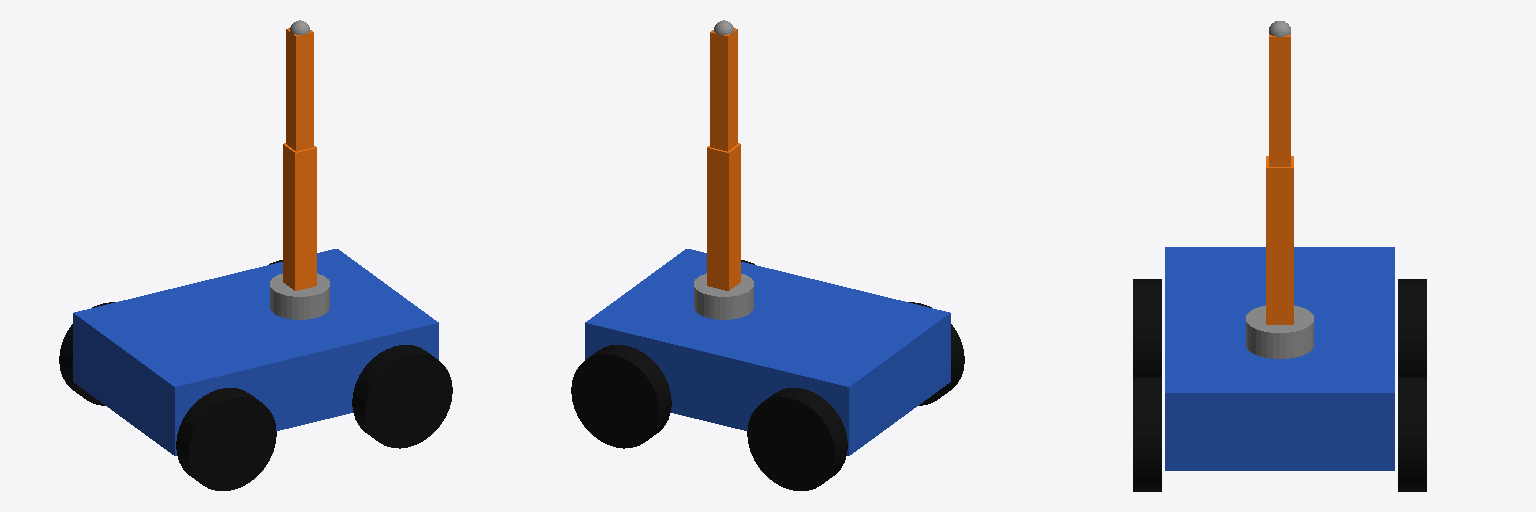
URDF robot description (sample_robot):
<?xml version="1.0"?>
<!-- Generated from sample_robot.urdf.xacro (expanded manually; values identical) -->
<robot name="sample_robot">
  <material name="blue"><color rgba="0.2 0.4 0.8 1"/></material>
  <material name="black"><color rgba="0.1 0.1 0.1 1"/></material>
  <material name="orange"><color rgba="1.0 0.5 0.1 1"/></material>
  <material name="grey"><color rgba="0.6 0.6 0.6 1"/></material>

  <link name="base_link">
    <visual>
      <origin xyz="0 0 0" rpy="0 0 0"/>
      <geometry><box size="0.6 0.4 0.15"/></geometry>
      <material name="blue"/>
    </visual>
    <collision>
      <origin xyz="0 0 0" rpy="0 0 0"/>
      <geometry><box size="0.6 0.4 0.15"/></geometry>
    </collision>
    <inertial>
      <origin xyz="0 0 0" rpy="0 0 0"/>
      <mass value="10"/>
      <inertia ixx="0.152083" ixy="0" ixz="0" iyy="0.31875" iyz="0" izz="0.433333"/>
    </inertial>
  </link>
  <link name="front_left_wheel_link">
    <visual>
      <origin xyz="0 0 0" rpy="1.5708 0 0"/>
      <geometry><cylinder radius="0.1" length="0.05"/></geometry>
      <material name="black"/>
    </visual>
    <collision>
      <origin xyz="0 0 0" rpy="1.5708 0 0"/>
      <geometry><cylinder radius="0.1" length="0.05"/></geometry>
    </collision>
    <inertial>
      <origin xyz="0 0 0" rpy="0 0 0"/>
      <mass value="1"/>
      <inertia ixx="0.00270833" ixy="0" ixz="0" iyy="0.005" iyz="0" izz="0.00270833"/>
    </inertial>
  </link>
  <joint name="front_left_wheel_joint" type="continuous">
    <parent link="base_link"/>
    <child link="front_left_wheel_link"/>
    <origin xyz="0.2 0.23 -0.05" rpy="0 0 0"/>
    <axis xyz="0 1 0"/>
    <limit effort="5" velocity="10"/>
    <dynamics damping="0.1" friction="0.0"/>
  </joint>
  <link name="front_right_wheel_link">
    <visual>
      <origin xyz="0 0 0" rpy="1.5708 0 0"/>
      <geometry><cylinder radius="0.1" length="0.05"/></geometry>
      <material name="black"/>
    </visual>
    <collision>
      <origin xyz="0 0 0" rpy="1.5708 0 0"/>
      <geometry><cylinder radius="0.1" length="0.05"/></geometry>
    </collision>
    <inertial>
      <origin xyz="0 0 0" rpy="0 0 0"/>
      <mass value="1"/>
      <inertia ixx="0.00270833" ixy="0" ixz="0" iyy="0.005" iyz="0" izz="0.00270833"/>
    </inertial>
  </link>
  <joint name="front_right_wheel_joint" type="continuous">
    <parent link="base_link"/>
    <child link="front_right_wheel_link"/>
    <origin xyz="0.2 -0.23 -0.05" rpy="0 0 0"/>
    <axis xyz="0 1 0"/>
    <limit effort="5" velocity="10"/>
    <dynamics damping="0.1" friction="0.0"/>
  </joint>
  <link name="rear_left_wheel_link">
    <visual>
      <origin xyz="0 0 0" rpy="1.5708 0 0"/>
      <geometry><cylinder radius="0.1" length="0.05"/></geometry>
      <material name="black"/>
    </visual>
    <collision>
      <origin xyz="0 0 0" rpy="1.5708 0 0"/>
      <geometry><cylinder radius="0.1" length="0.05"/></geometry>
    </collision>
    <inertial>
      <origin xyz="0 0 0" rpy="0 0 0"/>
      <mass value="1"/>
      <inertia ixx="0.00270833" ixy="0" ixz="0" iyy="0.005" iyz="0" izz="0.00270833"/>
    </inertial>
  </link>
  <joint name="rear_left_wheel_joint" type="continuous">
    <parent link="base_link"/>
    <child link="rear_left_wheel_link"/>
    <origin xyz="-0.2 0.23 -0.05" rpy="0 0 0"/>
    <axis xyz="0 1 0"/>
    <limit effort="5" velocity="10"/>
    <dynamics damping="0.1" friction="0.0"/>
  </joint>
  <link name="rear_right_wheel_link">
    <visual>
      <origin xyz="0 0 0" rpy="1.5708 0 0"/>
      <geometry><cylinder radius="0.1" length="0.05"/></geometry>
      <material name="black"/>
    </visual>
    <collision>
      <origin xyz="0 0 0" rpy="1.5708 0 0"/>
      <geometry><cylinder radius="0.1" length="0.05"/></geometry>
    </collision>
    <inertial>
      <origin xyz="0 0 0" rpy="0 0 0"/>
      <mass value="1"/>
      <inertia ixx="0.00270833" ixy="0" ixz="0" iyy="0.005" iyz="0" izz="0.00270833"/>
    </inertial>
  </link>
  <joint name="rear_right_wheel_joint" type="continuous">
    <parent link="base_link"/>
    <child link="rear_right_wheel_link"/>
    <origin xyz="-0.2 -0.23 -0.05" rpy="0 0 0"/>
    <axis xyz="0 1 0"/>
    <limit effort="5" velocity="10"/>
    <dynamics damping="0.1" friction="0.0"/>
  </joint>
  <link name="arm_pedestal_link">
    <visual>
      <origin xyz="0 0 0" rpy="0 0 0"/>
      <geometry><cylinder radius="0.06" length="0.05"/></geometry>
      <material name="grey"/>
    </visual>
    <collision>
      <origin xyz="0 0 0" rpy="0 0 0"/>
      <geometry><cylinder radius="0.06" length="0.05"/></geometry>
    </collision>
    <inertial>
      <origin xyz="0 0 0" rpy="0 0 0"/>
      <mass value="0.5"/>
      <inertia ixx="0.000554167" ixy="0" ixz="0" iyy="0.000554167" iyz="0" izz="0.0009"/>
    </inertial>
  </link>
  <joint name="base_to_arm_pedestal_joint" type="fixed">
    <parent link="base_link"/>
    <child link="arm_pedestal_link"/>
    <origin xyz="0.1 0 0.1" rpy="0 0 0"/>
  </joint>
  <link name="upper_arm_link">
    <visual>
      <origin xyz="0 0 0.15" rpy="0 0 0"/>
      <geometry><box size="0.05 0.05 0.3"/></geometry>
      <material name="orange"/>
    </visual>
    <collision>
      <origin xyz="0 0 0.15" rpy="0 0 0"/>
      <geometry><box size="0.05 0.05 0.3"/></geometry>
    </collision>
    <inertial>
      <origin xyz="0 0 0.15" rpy="0 0 0"/>
      <mass value="1"/>
      <inertia ixx="0.00770833" ixy="0" ixz="0" iyy="0.00770833" iyz="0" izz="0.000416667"/>
    </inertial>
  </link>
  <joint name="shoulder_joint" type="revolute">
    <parent link="arm_pedestal_link"/>
    <child link="upper_arm_link"/>
    <origin xyz="0 0 0.025" rpy="0 0 0"/>
    <axis xyz="0 1 0"/>
    <limit lower="-1.5708" upper="1.5708" effort="20" velocity="1.5"/>
    <dynamics damping="0.1" friction="0.0"/>
  </joint>
  <link name="forearm_link">
    <visual>
      <origin xyz="0 0 0.125" rpy="0 0 0"/>
      <geometry><box size="0.04 0.04 0.25"/></geometry>
      <material name="orange"/>
    </visual>
    <collision>
      <origin xyz="0 0 0.125" rpy="0 0 0"/>
      <geometry><box size="0.04 0.04 0.25"/></geometry>
    </collision>
    <inertial>
      <origin xyz="0 0 0.125" rpy="0 0 0"/>
      <mass value="0.6"/>
      <inertia ixx="0.003205" ixy="0" ixz="0" iyy="0.003205" iyz="0" izz="0.00016"/>
    </inertial>
  </link>
  <joint name="elbow_joint" type="revolute">
    <parent link="upper_arm_link"/>
    <child link="forearm_link"/>
    <origin xyz="0 0 0.3" rpy="0 0 0"/>
    <axis xyz="0 1 0"/>
    <limit lower="-2.5" upper="2.5" effort="10" velocity="2"/>
    <dynamics damping="0.1" friction="0.0"/>
  </joint>
  <link name="tool_link">
    <visual>
      <origin xyz="0 0 0" rpy="0 0 0"/>
      <geometry><sphere radius="0.02"/></geometry>
      <material name="grey"/>
    </visual>
    <collision>
      <origin xyz="0 0 0" rpy="0 0 0"/>
      <geometry><sphere radius="0.02"/></geometry>
    </collision>
    <inertial>
      <origin xyz="0 0 0" rpy="0 0 0"/>
      <mass value="0.05"/>
      <inertia ixx="8e-06" ixy="0" ixz="0" iyy="8e-06" iyz="0" izz="8e-06"/>
    </inertial>
  </link>
  <joint name="forearm_to_tool_joint" type="fixed">
    <parent link="forearm_link"/>
    <child link="tool_link"/>
    <origin xyz="0 0 0.25" rpy="0 0 0"/>
  </joint>
</robot>

--- What the picture shows (computed from the rendered views, not written in the file) ---
The picture shows the robot from 3 angles, left to right: view 1: azimuth 30°, elevation 25°; view 2: azimuth 150°, elevation 25°; view 3: azimuth 270°, elevation 25°; orthographic projection.
Model sample_robot with 9 links and 8 joints (2 revolute, 4 continuous, 2 fixed), rooted at base_link, posed all joints at 0.
Visible links, largest first — view 1: base_link, front_right_wheel_link, rear_right_wheel_link, upper_arm_link, forearm_link, arm_pedestal_link, rear_left_wheel_link; view 2: base_link, front_left_wheel_link, rear_left_wheel_link, upper_arm_link, forearm_link, arm_pedestal_link, rear_right_wheel_link; view 3: base_link, upper_arm_link, front_left_wheel_link, front_right_wheel_link, forearm_link, rear_left_wheel_link, rear_right_wheel_link, arm_pedestal_link.
Boxes of the visible links, x1,y1,x2,y2 form: base_link: (73,249,438,455); front_right_wheel_link: (352,345,452,448); rear_right_wheel_link: (176,388,276,490); upper_arm_link: (283,143,316,290); forearm_link: (286,28,313,151); arm_pedestal_link: (270,273,329,319); rear_left_wheel_link: (59,302,114,405); base_link: (585,249,950,455); front_left_wheel_link: (571,345,671,448); rear_left_wheel_link: (747,388,847,490); upper_arm_link: (707,143,740,290); forearm_link: (710,28,737,151); arm_pedestal_link: (694,273,753,319); rear_right_wheel_link: (909,302,964,405); base_link: (1165,247,1394,470); upper_arm_link: (1266,156,1293,324); front_left_wheel_link: (1398,377,1426,491); front_right_wheel_link: (1133,377,1161,491); forearm_link: (1269,34,1290,166); rear_left_wheel_link: (1398,279,1426,376); rear_right_wheel_link: (1133,279,1161,376); arm_pedestal_link: (1246,305,1313,358).
Bounding box of the posed robot: 0.6 × 0.51 × 0.845 m (x, y, z).
Geometry: primitives only (box / cylinder / sphere), no mesh files.
